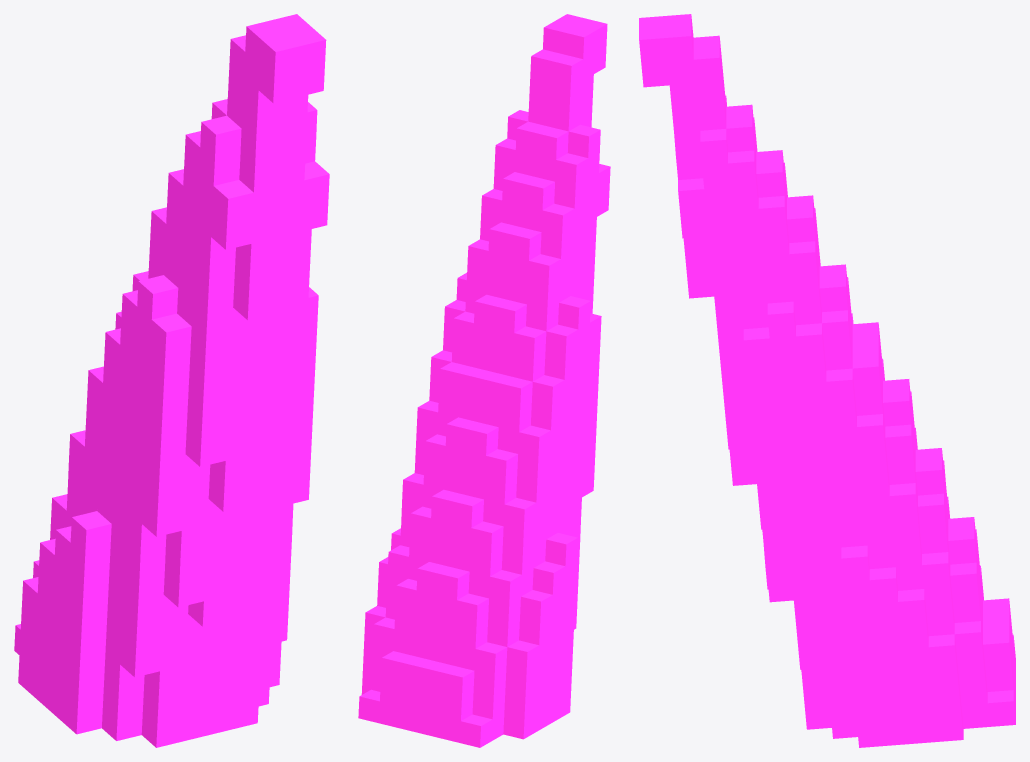
The model's file is pink.gltf.
3 views of the same model, side by side, from view 1: azimuth 30°, elevation 25°; view 2: azimuth 150°, elevation 25°; view 3: azimuth 270°, elevation 25° (orthographic). The views are drawn at different scales.
Visible parts, largest first — view 1: 角.1; view 2: 角.1; view 3: 角.1.
Boxes of the visible parts, x1,y1,x2,y2 form: 角.1: (14, 14, 329, 747); 角.1: (358, 14, 610, 747); 角.1: (639, 14, 1015, 747).
Bounding box in the file's own units: 0.9601 × 3.45 × 1.72.
